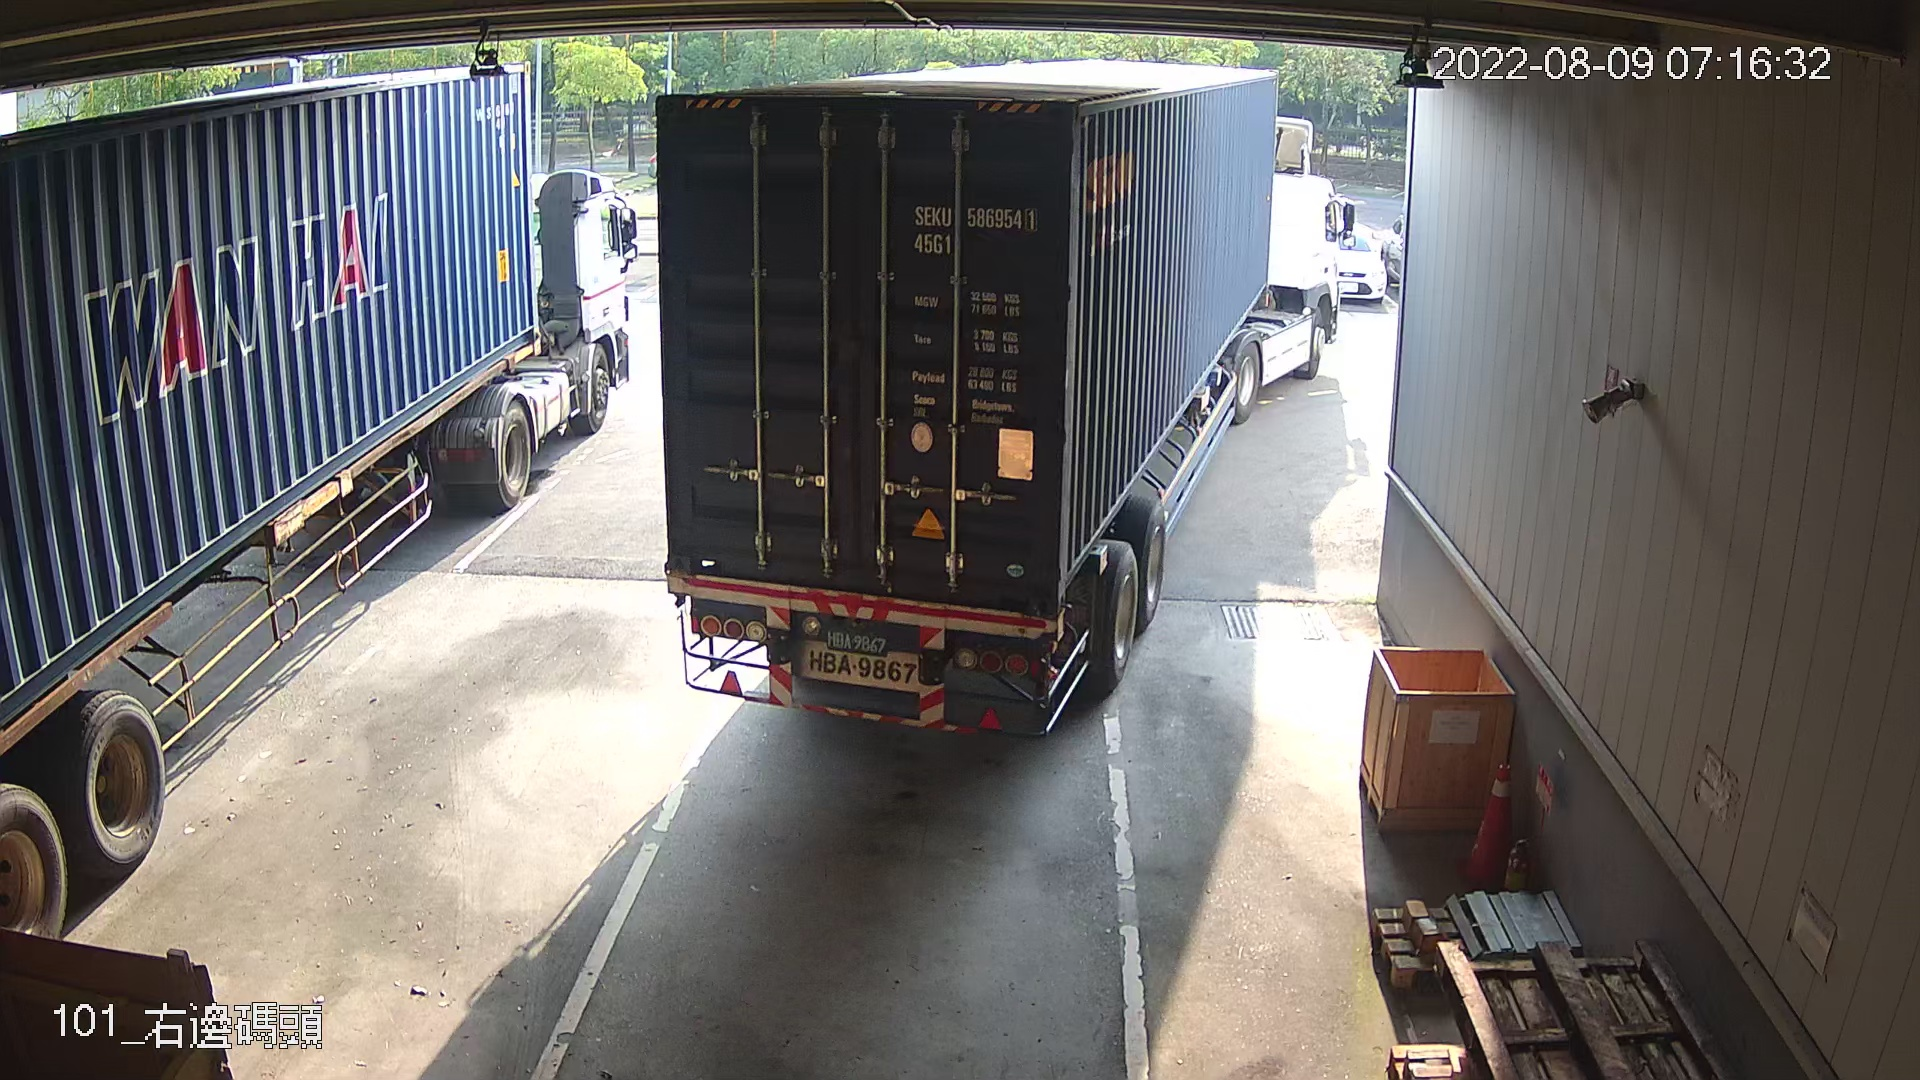container: (903, 196, 1047, 266)
